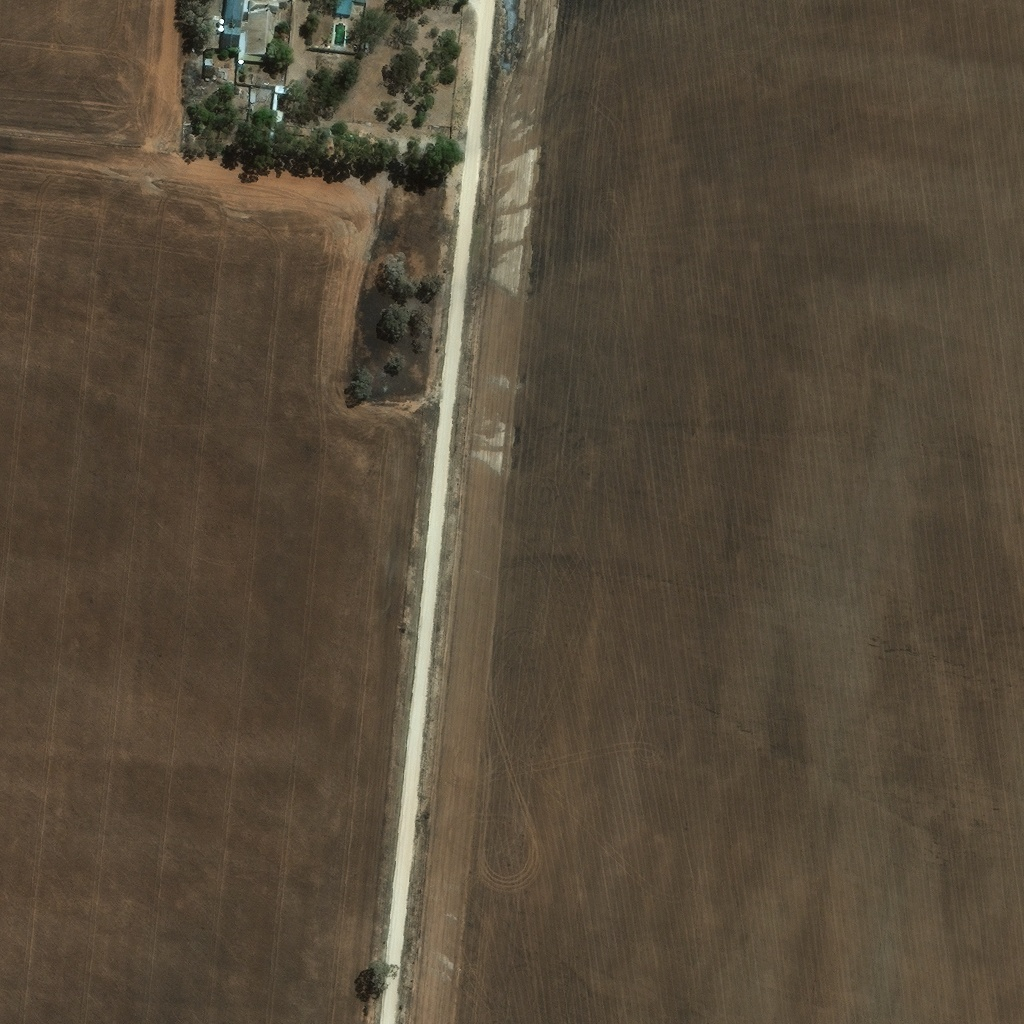0 no-damage: (241, 0, 278, 55), (271, 85, 294, 132), (251, 91, 274, 112), (353, 2, 366, 16), (205, 58, 212, 65)
3 destroyed: (183, 122, 198, 146)
4 un-classified: (291, 124, 312, 132), (348, 131, 355, 137)
